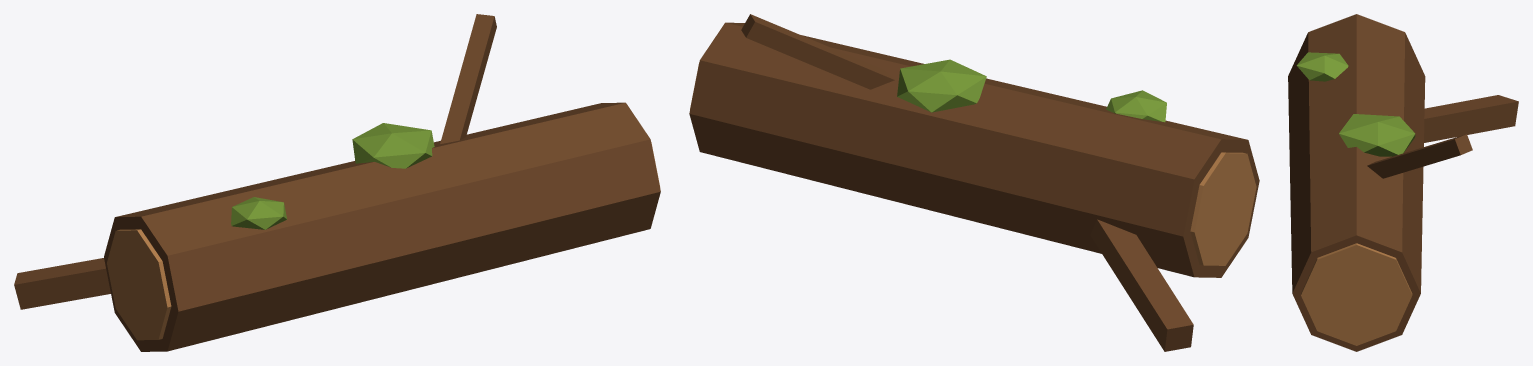
Rendered from Fallen_Log.fbx.
The picture shows the model from 3 angles, left to right: view 1: azimuth 30°, elevation 25°; view 2: azimuth 150°, elevation 25°; view 3: azimuth 270°, elevation 25°; orthographic projection. The views are drawn at different scales.
Parts seen in each view (by area): view 1: Fallen_Log; view 2: Fallen_Log; view 3: Fallen_Log.
Part boxes in pixels (left/top/right/bottom): Fallen_Log: left=14, top=14, right=660, bottom=351; Fallen_Log: left=689, top=14, right=1259, bottom=351; Fallen_Log: left=1288, top=14, right=1518, bottom=351.
Bounding box in the file's own units: 2.67 × 0.943 × 1.08.
